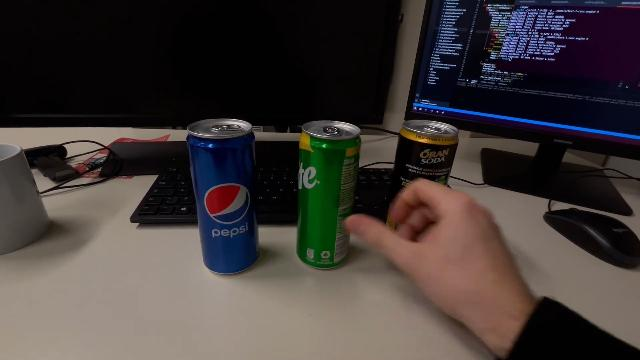OranSoda: (384, 116, 462, 236)
Pepsi: (184, 115, 262, 276)
Sprite: (296, 118, 364, 272)
